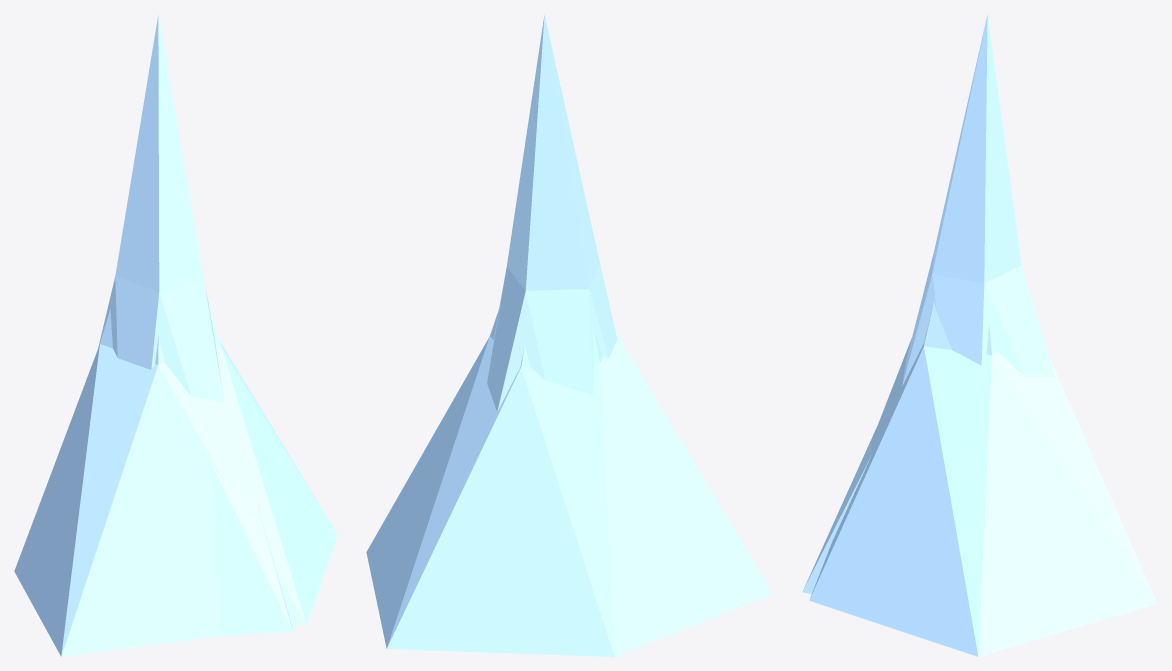
File: ice-shard-0.glb
The picture shows the model from 3 angles, left to right: view 1: azimuth 30°, elevation 25°; view 2: azimuth 150°, elevation 25°; view 3: azimuth 270°, elevation 25°; orthographic projection. The views are drawn at different scales.
Parts seen in each view (by area): view 1: ice-shard-0; view 2: ice-shard-0; view 3: ice-shard-0.
Boxes of the visible parts, x1,y1,x2,y2 form: ice-shard-0: (14, 15, 337, 656); ice-shard-0: (366, 14, 773, 656); ice-shard-0: (802, 14, 1157, 656).
Size of the model in its own units: 0.7093 by 1.14 by 0.6583.
